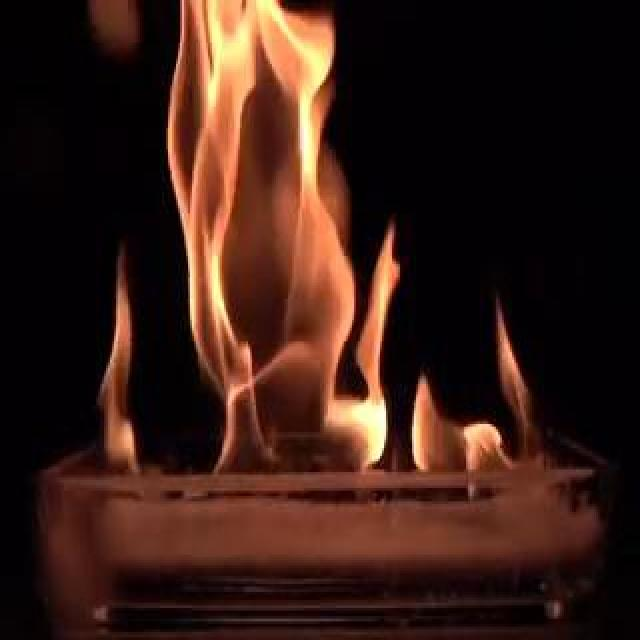Fire: (260, 32, 458, 483)
